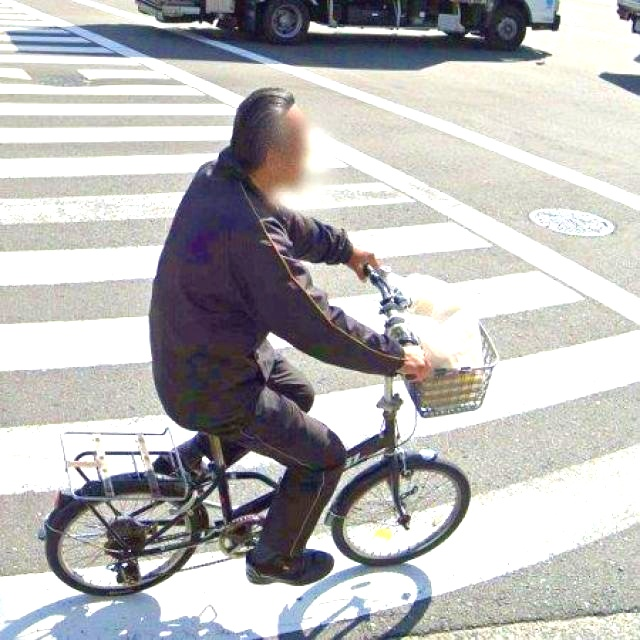bicycle: (3, 254, 529, 614)
